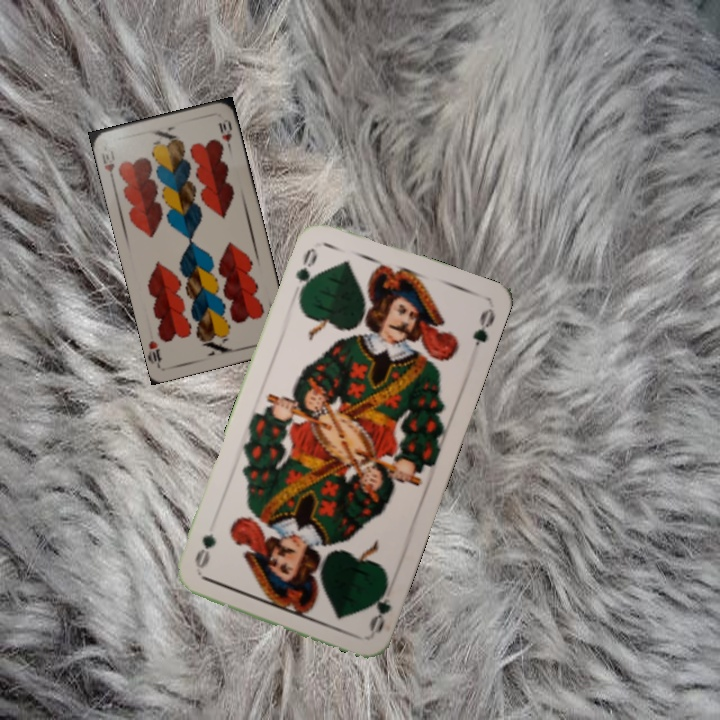GO: (365, 576, 394, 636), (291, 244, 320, 300)
H10: (97, 147, 117, 184)
